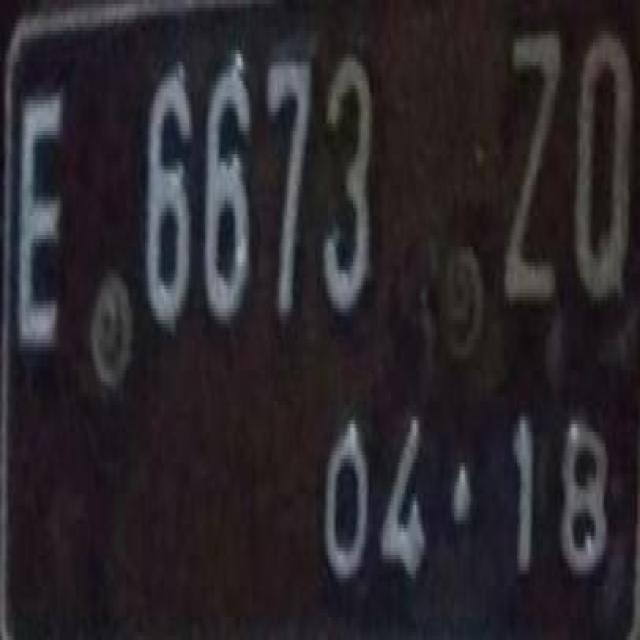3: (315, 54, 375, 320)
6: (142, 66, 197, 336), (202, 66, 257, 332)
7: (260, 58, 314, 320)
E: (18, 81, 66, 347)
Q: (568, 31, 634, 304)
Z: (494, 27, 568, 305)
